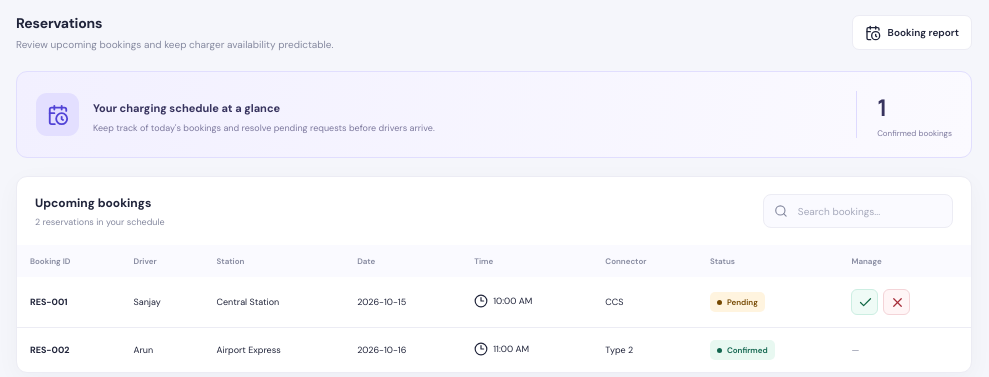
Test: Reservations › filters bookings by driver name
Type "Arun" into the field named "Search reservations" at point(869, 211), box [796, 204, 942, 218]
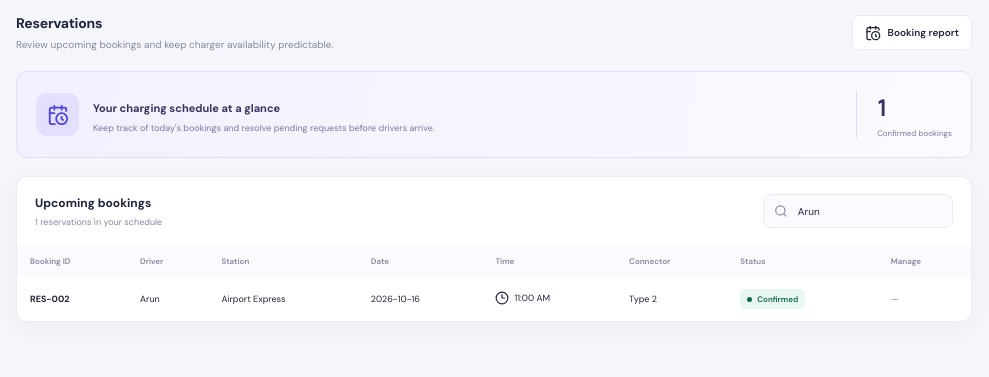
Expected: the text "RES-002" is shown, [30, 293, 69, 305]
Now the text "RES-001" is not shown
